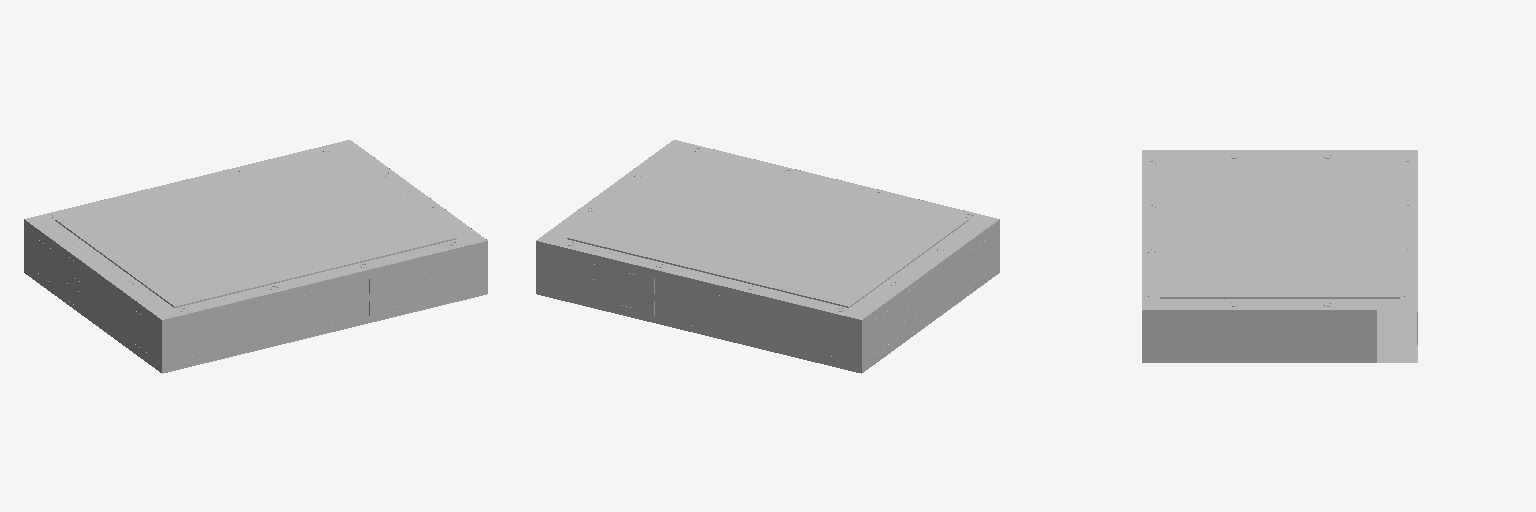
3 renders of one model, left to right at view 1: azimuth 30°, elevation 25°; view 2: azimuth 150°, elevation 25°; view 3: azimuth 270°, elevation 25°, orthographic.
Parts seen in each view (by area): view 1: Art_Room; view 2: Art_Room; view 3: Art_Room.
Part boxes in pixels (bbox=[...]): Art_Room: bbox=[24, 140, 487, 373]; Art_Room: bbox=[536, 140, 999, 373]; Art_Room: bbox=[1142, 150, 1417, 362].
Size of the model in its own units: 27.64 by 4.46 by 20.29.